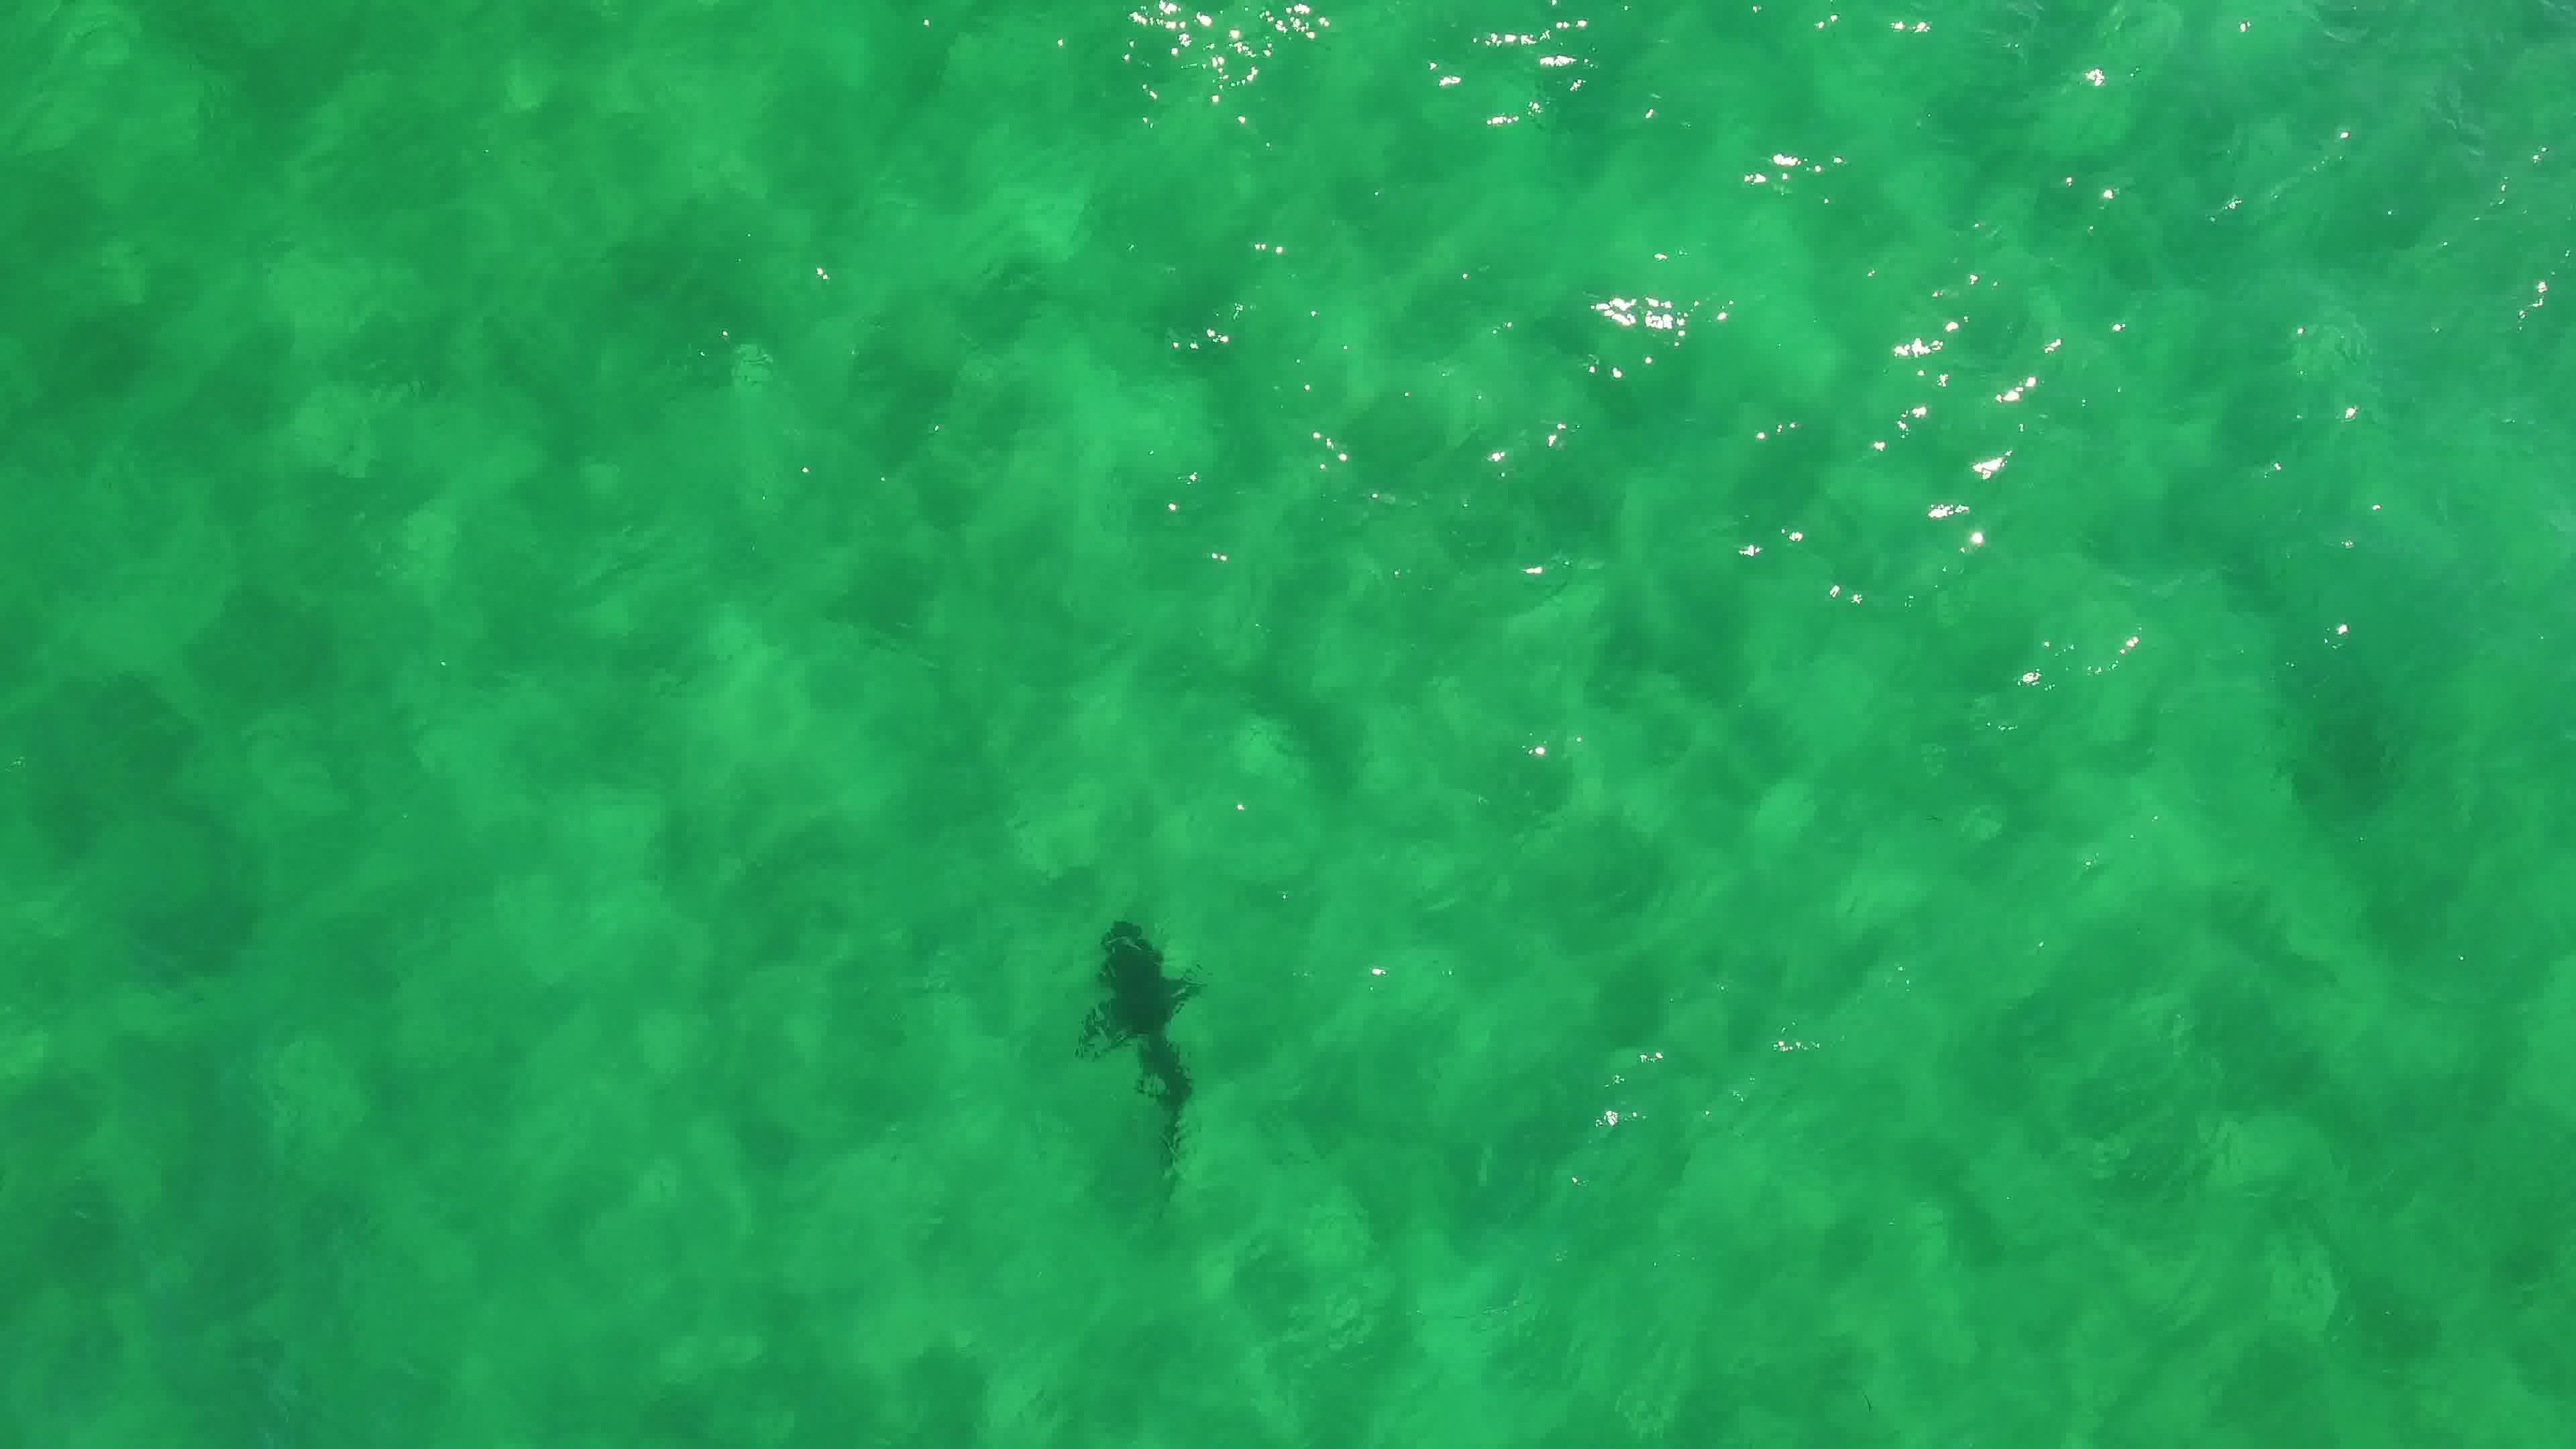shark: (1065, 913, 1210, 1161)
